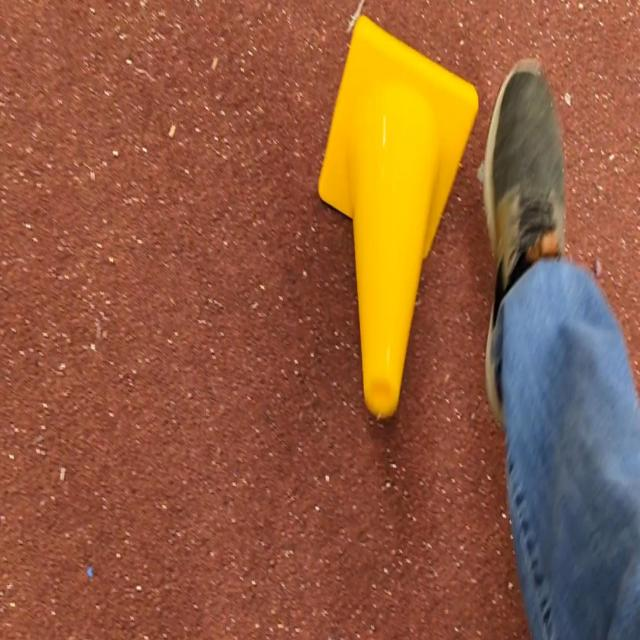frc_cone: (315, 18, 480, 422)
